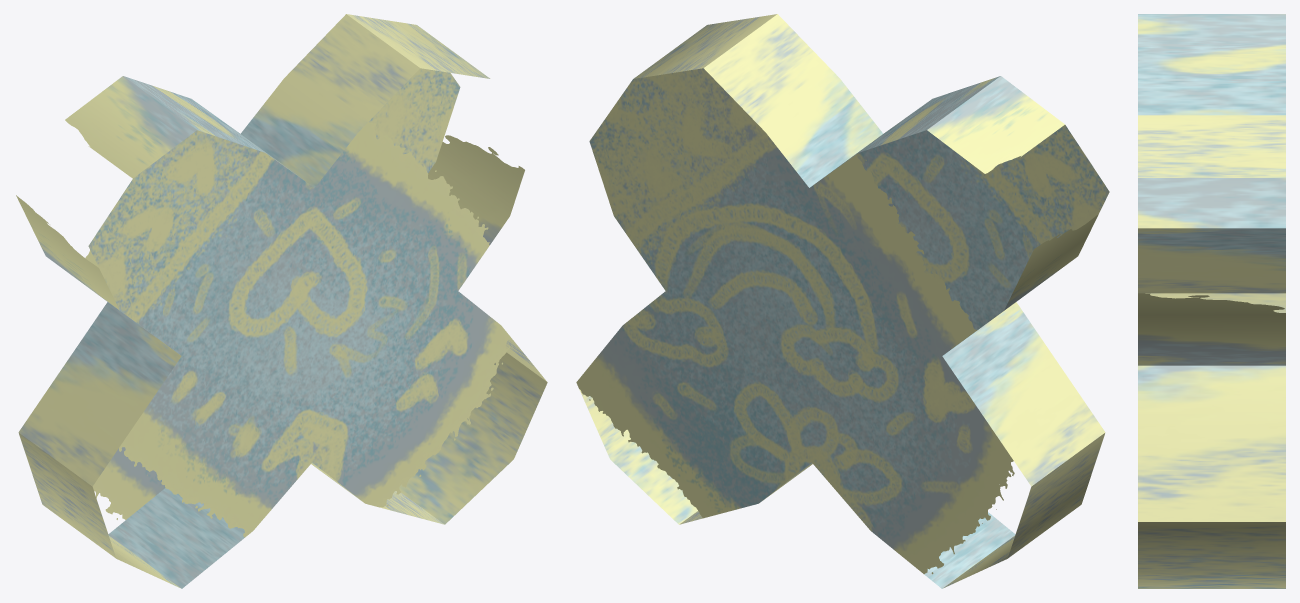
File: curitaCute.fbx
3 renders of one model, left to right at view 1: azimuth 30°, elevation 25°; view 2: azimuth 150°, elevation 25°; view 3: azimuth 270°, elevation 25°, orthographic.
Parts seen in each view (by area): view 1: pCube71; view 2: pCube71; view 3: pCube71.
Part boxes in pixels (x1=…): pCube71: x1=16, y1=14, x2=547, y2=588; pCube71: x1=576, y1=14, x2=1109, y2=588; pCube71: x1=1138, y1=14, x2=1285, y2=588.
Bounding box in the file's own units: 10.09 × 9.71 × 2.82.
